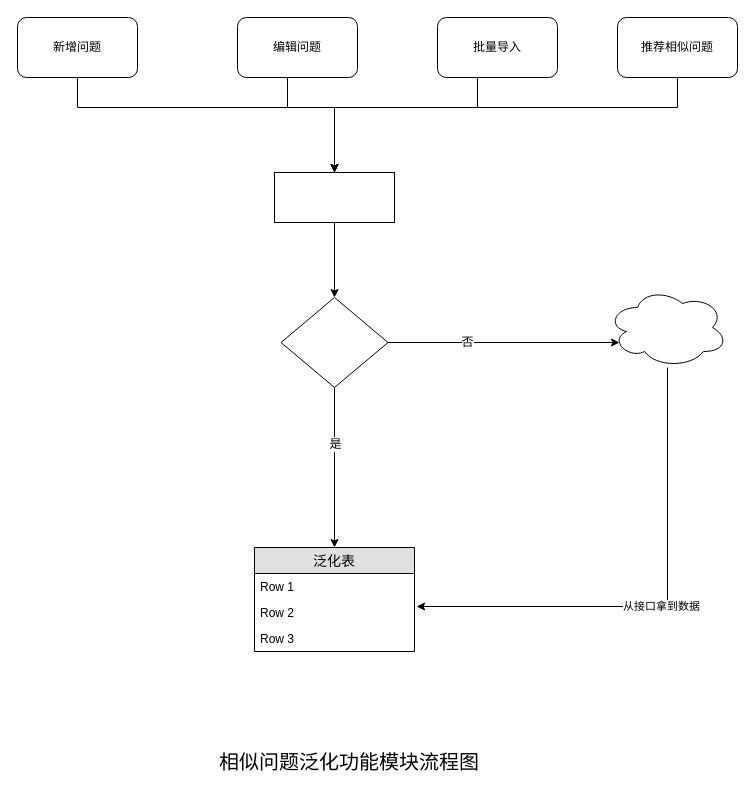
Image size: 755x792. Some labels were removed from this diagram. The shapes that lost their labels are listed below. From the top down, each one's centre as x and y in pixels, then its label:
At point (334, 197): "问题泛化".
At point (334, 342): "数据是否在泛化表".
At point (667, 327): "接口".
